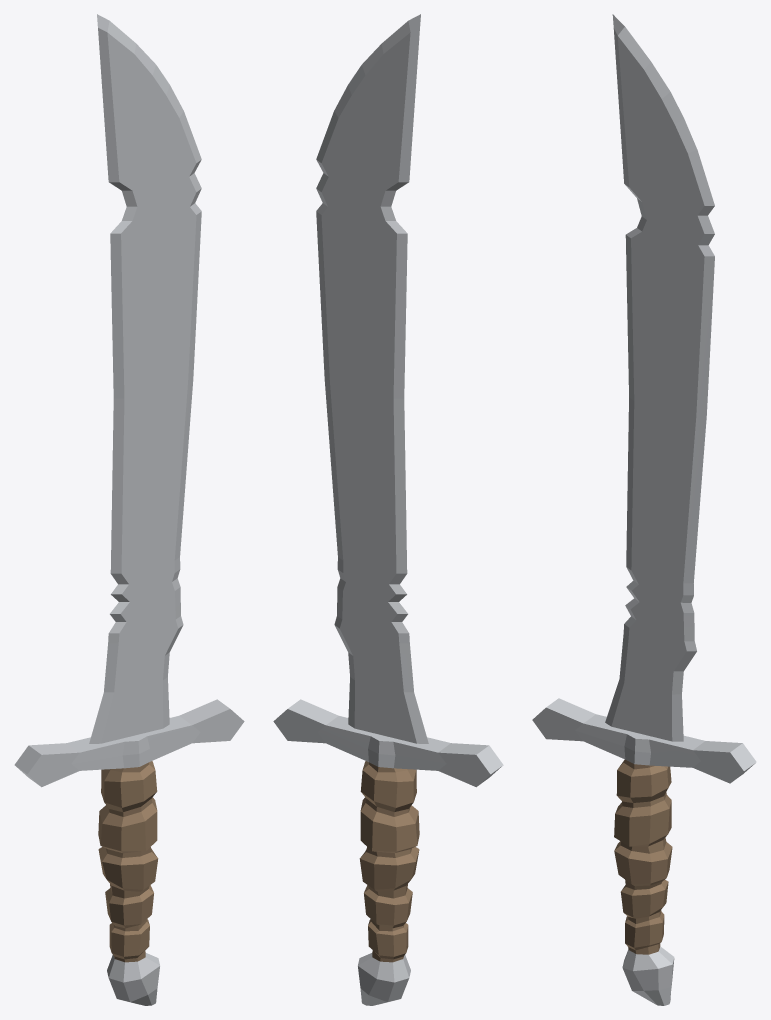
File: weapon_forged_blade.glb
The picture shows the model from 3 angles, left to right: view 1: azimuth 30°, elevation 25°; view 2: azimuth 150°, elevation 25°; view 3: azimuth 330°, elevation 25°; orthographic projection. The views are drawn at different scales.
Parts seen in each view (by area): view 1: forged_blade; view 2: forged_blade; view 3: forged_blade.
Boxes of the visible parts, x1,y1,x2,y2 form: forged_blade: (14,14,244,1005); forged_blade: (273,14,503,1005); forged_blade: (532,14,756,1005).
Bounding box in the file's own units: 0.2612 × 1.15 × 0.0666.
